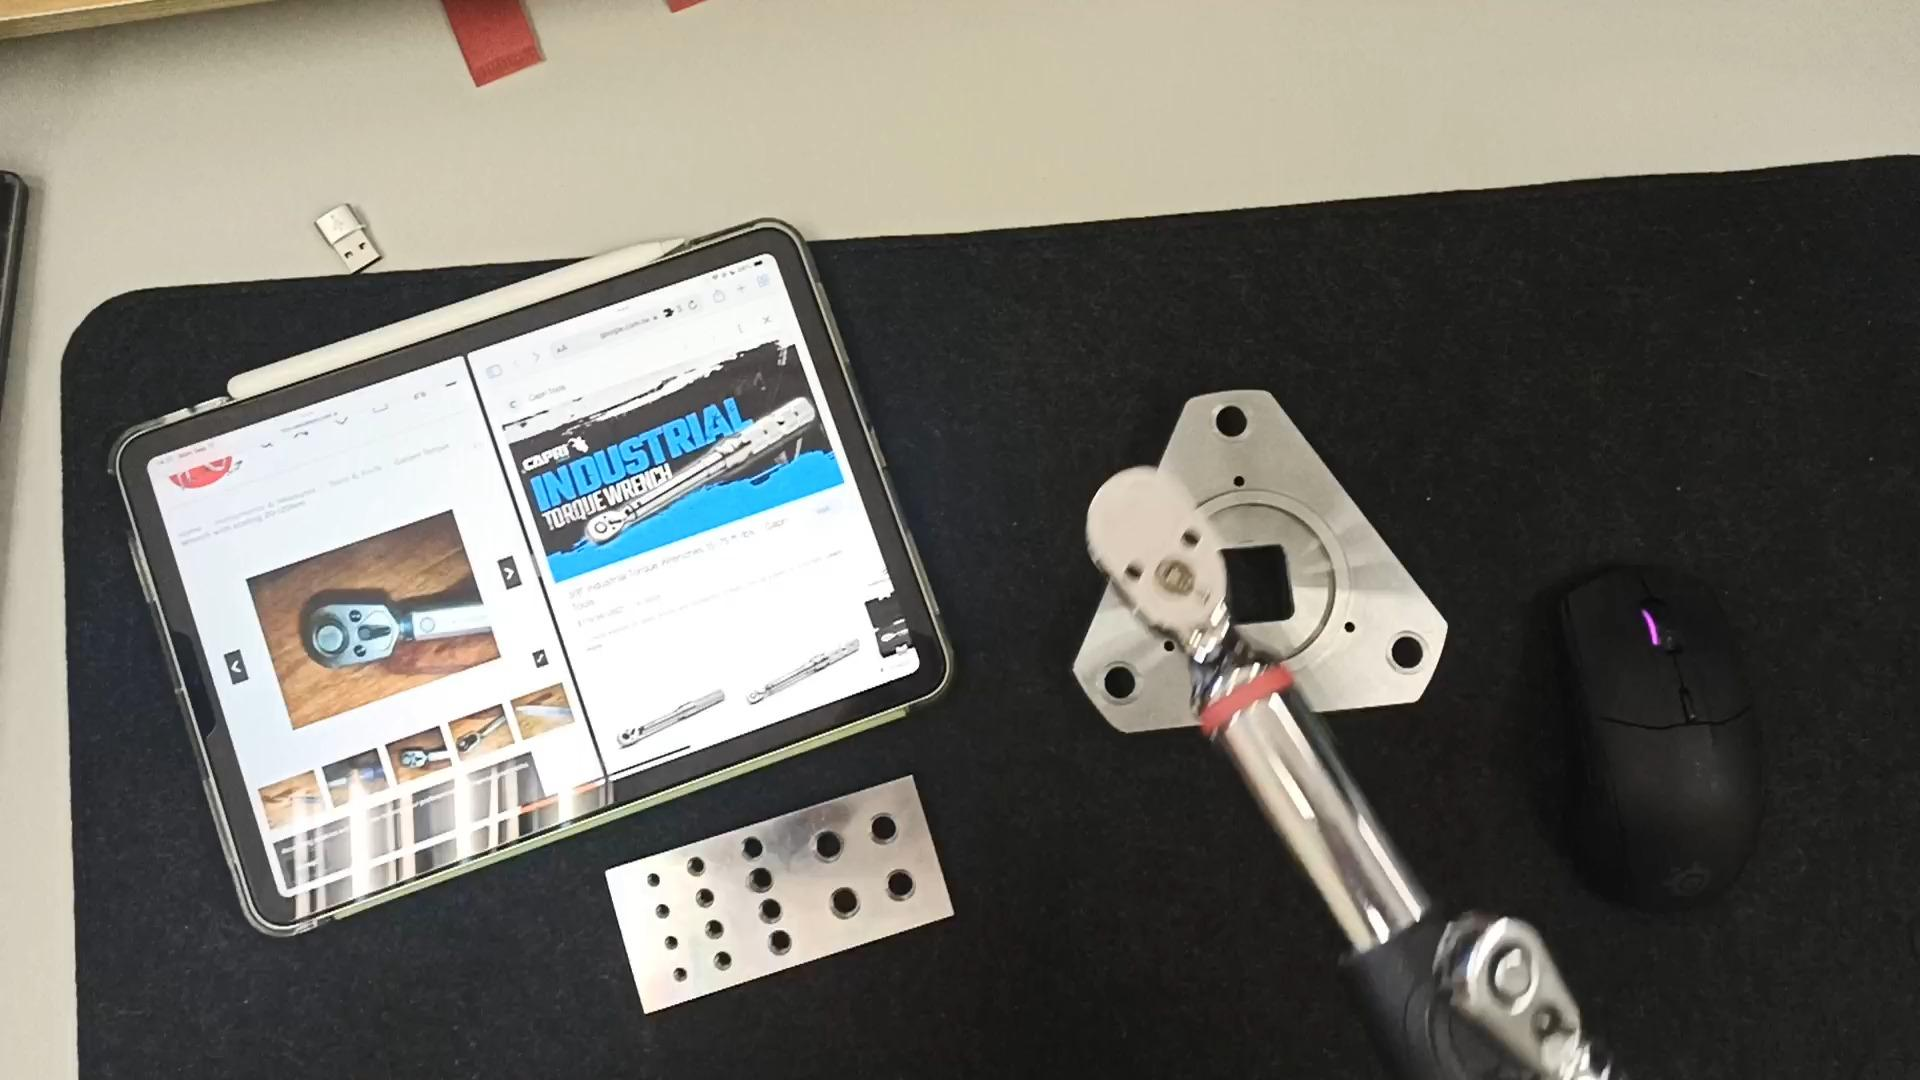Tool: (1083, 461, 1253, 680), (1428, 900, 1610, 1080), (297, 594, 400, 670), (584, 506, 628, 549)
hole: (1367, 631, 1439, 679), (1091, 654, 1143, 711), (1193, 400, 1255, 444), (870, 868, 933, 909), (795, 823, 859, 863), (850, 811, 911, 851), (824, 889, 881, 928), (730, 836, 780, 866), (739, 866, 786, 896), (768, 932, 812, 959), (760, 905, 804, 930), (677, 856, 718, 880), (690, 886, 728, 909), (710, 955, 747, 976), (701, 923, 737, 944), (642, 870, 676, 890), (650, 904, 684, 924), (669, 968, 703, 987), (659, 933, 692, 952)
